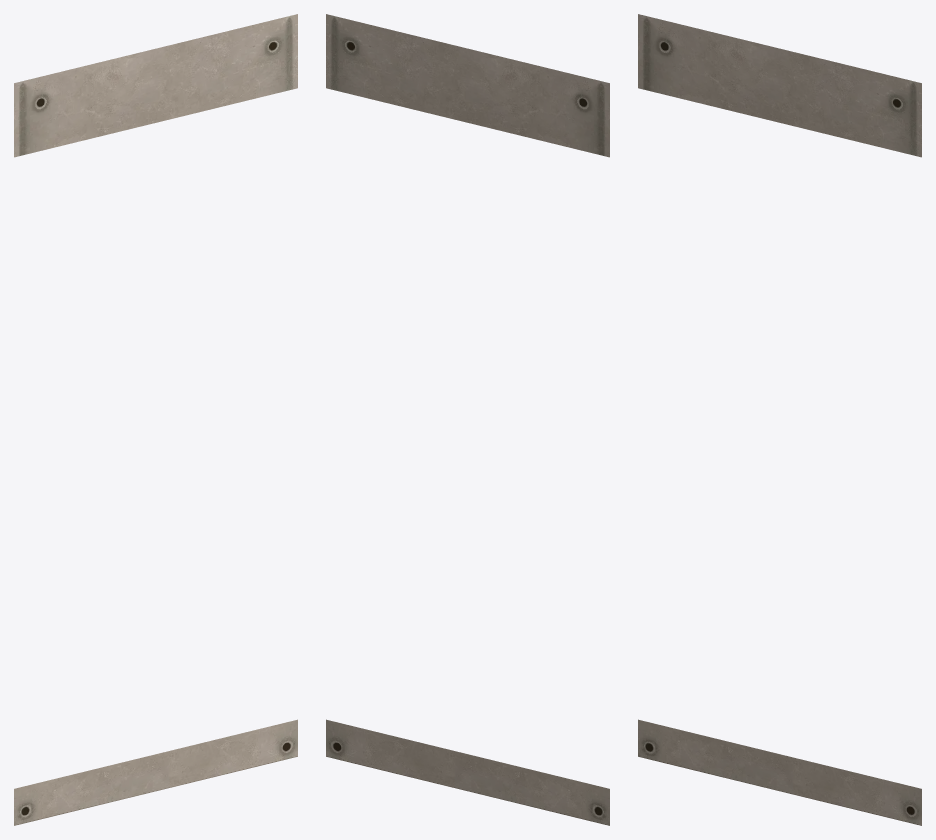
Rendered from pm-wall-01-window.glb.
3 renders of one model, left to right at view 1: azimuth 30°, elevation 25°; view 2: azimuth 150°, elevation 25°; view 3: azimuth 330°, elevation 25°, orthographic.
Parts seen in each view (by area): view 1: Wall_01_Window; view 2: Wall_01_Window; view 3: Wall_01_Window.
Boxes of the visible parts, left/top/right/bottom form: Wall_01_Window: left=14, top=14, right=297, bottom=825; Wall_01_Window: left=326, top=14, right=609, bottom=825; Wall_01_Window: left=638, top=14, right=921, bottom=825.
Bounding box in the file's own units: 2 × 5 × 6.72e-07.
Materials: 1 (1 with a texture image).
